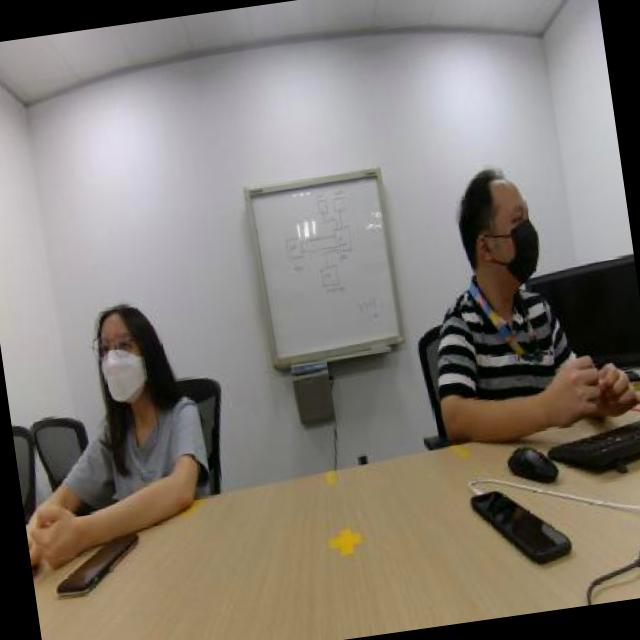Person: (417, 99, 599, 428), (21, 214, 209, 487)
